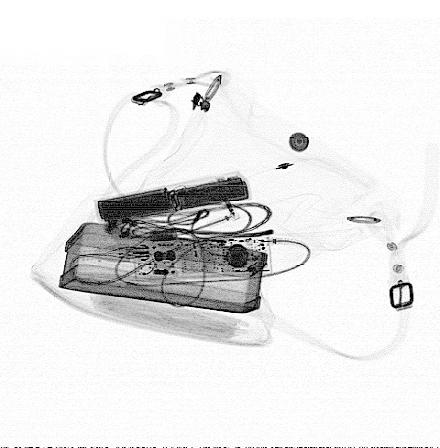Powerbank: (92, 170, 252, 227)
